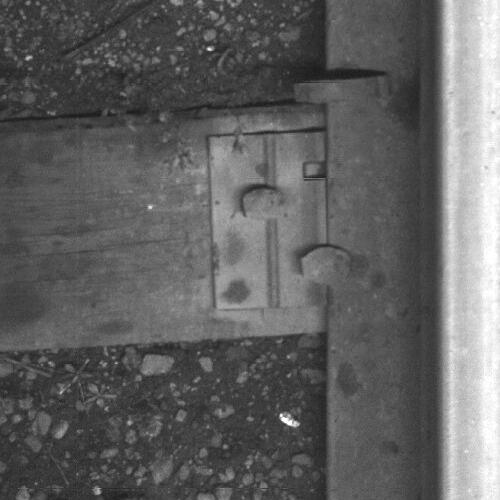crutch: (294, 72, 395, 104)
do: (206, 129, 353, 312)
rail: (439, 1, 500, 500)
tie_wood: (1, 119, 329, 338)
